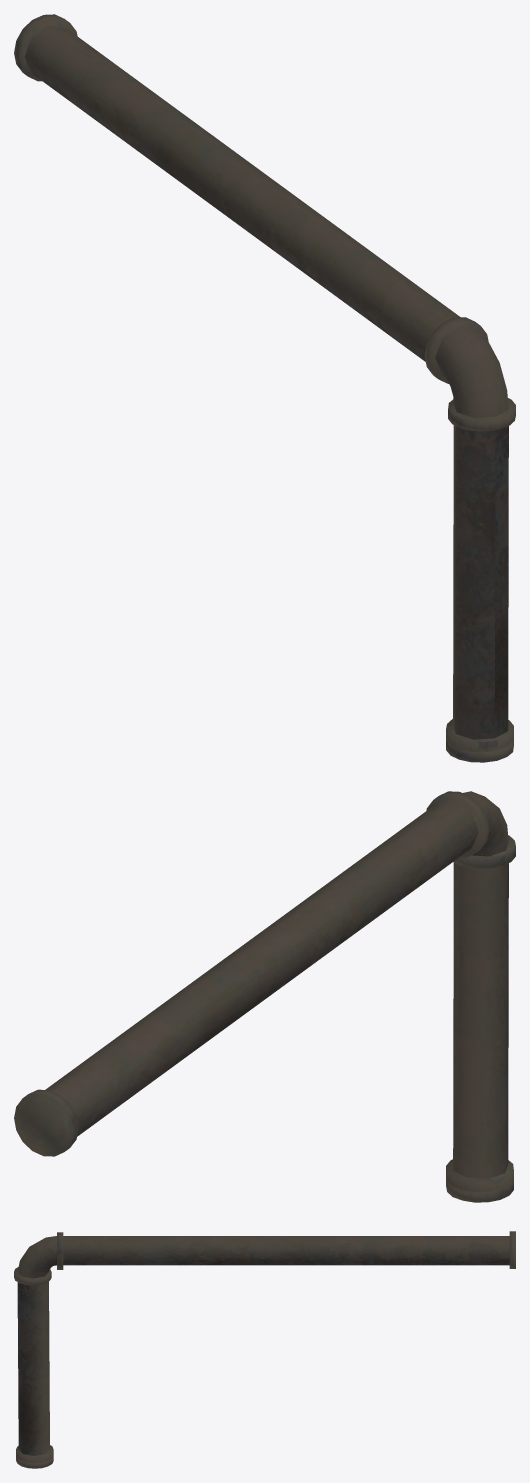
Rendered from pipe_1.glb.
3 renders of one model, top to bottom at view 1: azimuth 30°, elevation 25°; view 2: azimuth 150°, elevation 25°; view 3: azimuth 270°, elevation 25°, orthographic. The views are drawn at different scales.
Visible parts, largest first — view 1: prefab_normalpipe1_randommachinerypipes_Material_000002_0; view 2: prefab_normalpipe1_randommachinerypipes_Material_000002_0; view 3: prefab_normalpipe1_randommachinerypipes_Material_000002_0.
Part boxes in pixels (x1,y1,x2,y2): prefab_normalpipe1_randommachinerypipes_Material_000002_0: (14, 14, 515, 762); prefab_normalpipe1_randommachinerypipes_Material_000002_0: (14, 791, 515, 1202); prefab_normalpipe1_randommachinerypipes_Material_000002_0: (14, 1231, 515, 1468).
Bounding box in the file's own units: 0.7471 × 4.96 × 9.91.
Materials: 1 (1 with a texture image).
